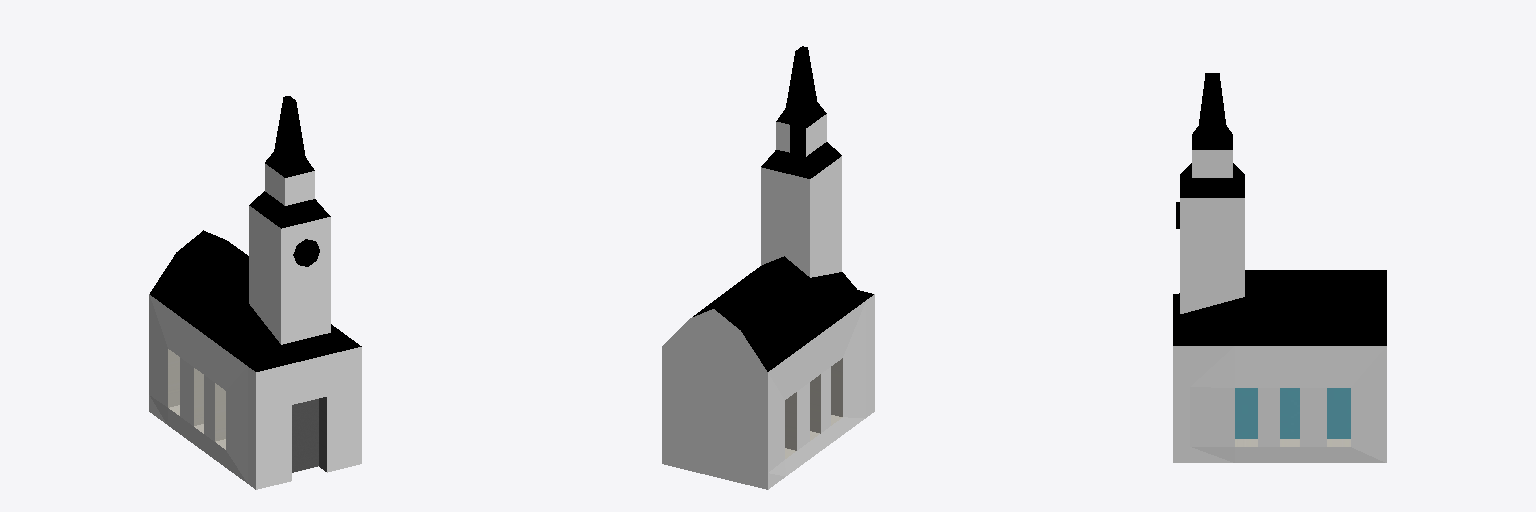
3 views of the same model, side by side, from view 1: azimuth 30°, elevation 25°; view 2: azimuth 150°, elevation 25°; view 3: azimuth 270°, elevation 25° (orthographic).
Parts seen in each view (by area): view 1: hull, roof, door, frame, hole; view 2: hull, roof, frame; view 3: hull, roof, windows, frame.
Part boxes in pixels (x1,y1,x2,y2): hull: (149, 164, 361, 489); roof: (150, 96, 361, 371); door: (292, 397, 326, 472); frame: (168, 349, 225, 449); hole: (293, 239, 319, 266); hull: (662, 114, 874, 489); roof: (693, 46, 873, 371); frame: (785, 358, 842, 458); hull: (1173, 150, 1386, 462); roof: (1173, 73, 1386, 345); windows: (1235, 388, 1350, 438); frame: (1235, 439, 1350, 446).
Bounding box in the file's own units: 20.18 × 65.74 × 35.
Materials: 2 (2 with a texture image).